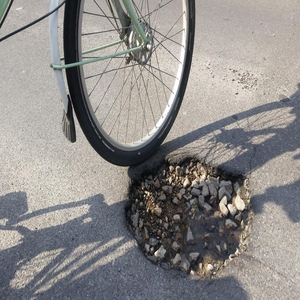pothole: (122, 154, 258, 283)
